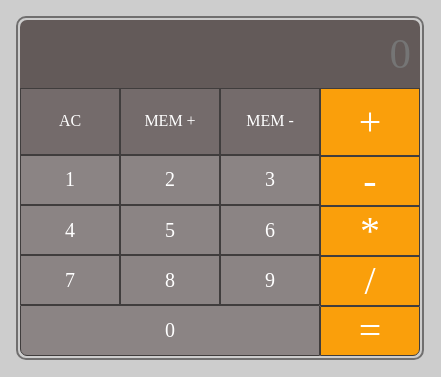
App component › should change operator if choose another one
Click the button "2" at (170, 180), box [120,155,220,205]
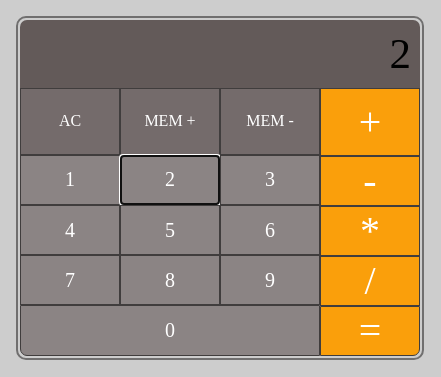
Click the button "+" at (370, 122), box [320,88,420,156]
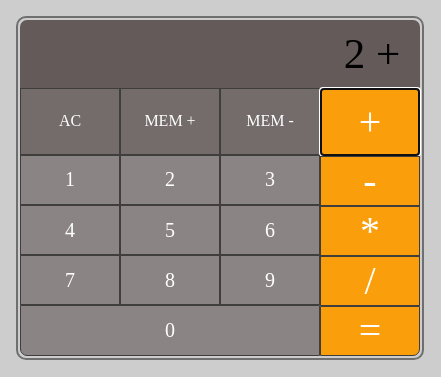
Result: the field with placeholder "0" holds "2 + " at [20,20,420,88]
Click the button "/" at (370, 281), box [320,256,420,306]
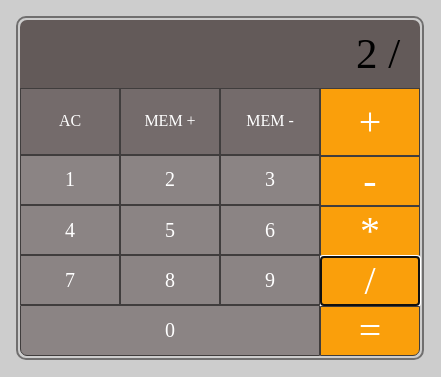
Result: the field with placeholder "0" holds "2 / " at [20,20,420,88]
